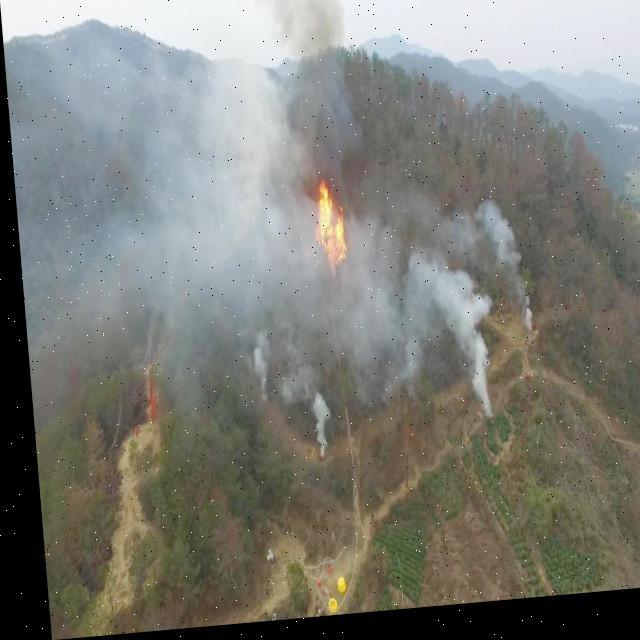Fire: (291, 166, 374, 288)
